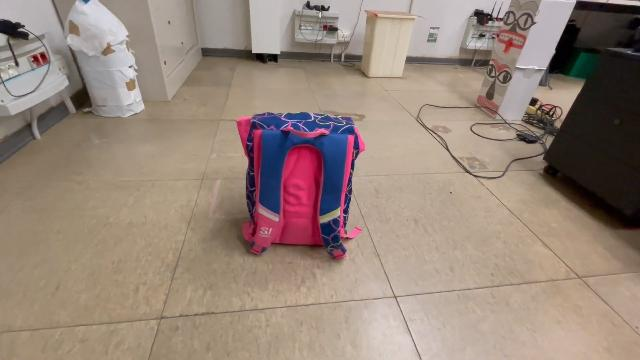Backpack: (232, 108, 370, 264)
